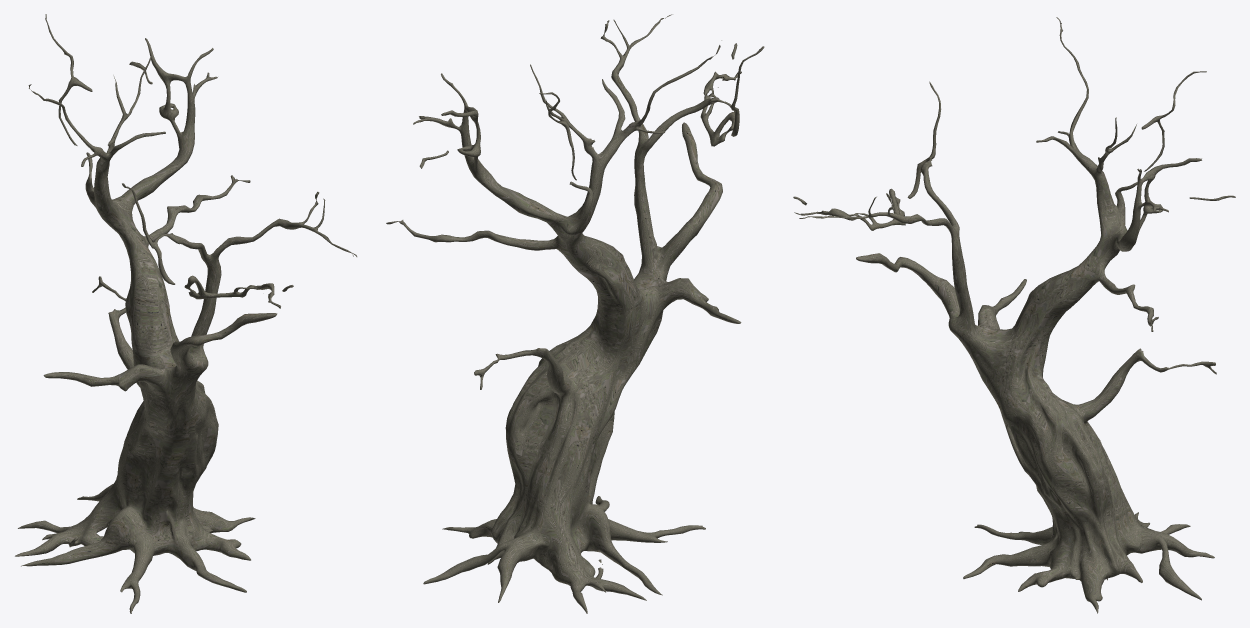
File: Arbol_pantano.glb
3 renders of one model, left to right at view 1: azimuth 30°, elevation 25°; view 2: azimuth 150°, elevation 25°; view 3: azimuth 270°, elevation 25°, orthographic. The views are drawn at different scales.
Parts seen in each view (by area): view 1: prim0; view 2: prim0; view 3: prim0.
Part boxes in pixels (x1,y1,x2,y2): prim0: (15, 14, 357, 613); prim0: (386, 14, 764, 613); prim0: (793, 17, 1235, 613).
Size of the model in its own units: 6.77 by 12.2 by 9.99.
1 material, 1 textured.
